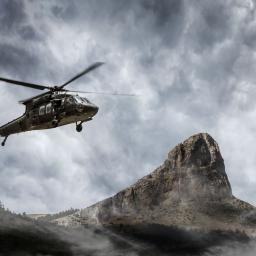helicopter: (1, 65, 97, 148)
